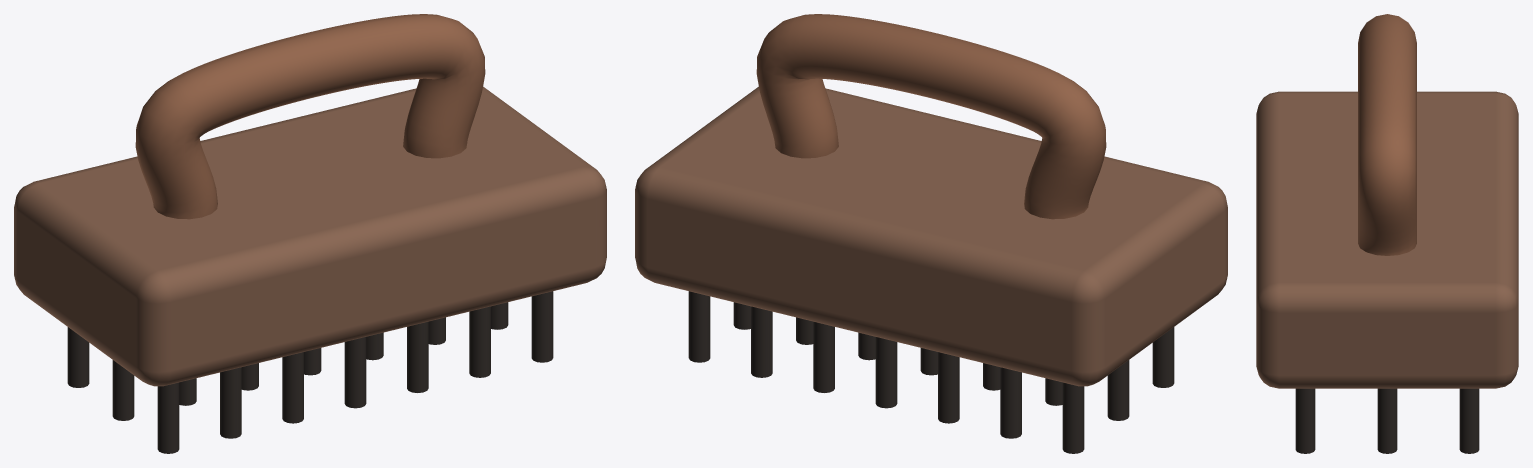
File: griffin-airmail-roost-and-posthouse-grooming-brush-49bedfbe__30510.glb
3 views of the same model, side by side, from view 1: azimuth 30°, elevation 25°; view 2: azimuth 150°, elevation 25°; view 3: azimuth 270°, elevation 25° (orthographic). The views are drawn at different scales.
Visible parts, largest first — view 1: grooming-brush; view 2: grooming-brush; view 3: grooming-brush.
Part boxes in pixels (x1,y1,x2,y2): grooming-brush: (14,14,606,453); grooming-brush: (635,14,1227,453); grooming-brush: (1256,14,1518,453).
Bounding box in the file's own units: 0.15 × 0.1027 × 0.08.
